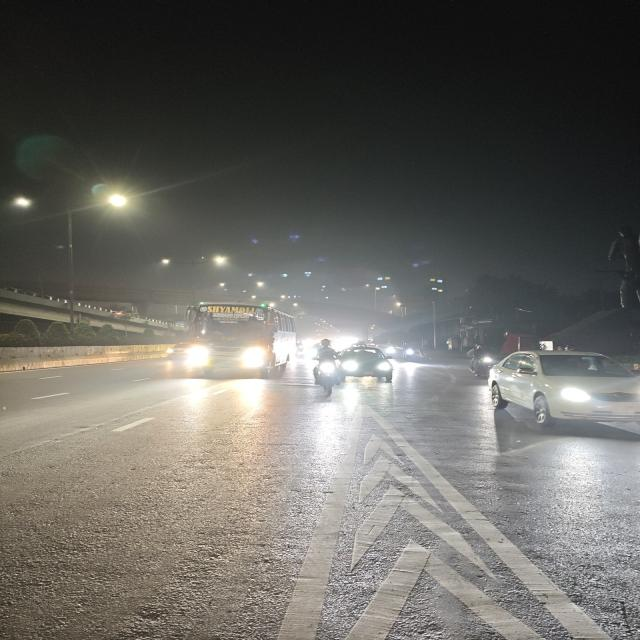bus: (186, 302, 294, 380)
car: (483, 346, 640, 438), (336, 342, 399, 390)
motorcycle: (308, 338, 342, 400), (465, 343, 496, 379)
